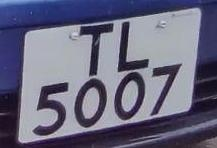0: (70, 74, 111, 133), (110, 68, 148, 127)
5: (29, 76, 73, 137)
7: (149, 61, 185, 119)
L: (113, 16, 154, 75)
T: (72, 19, 117, 81)
